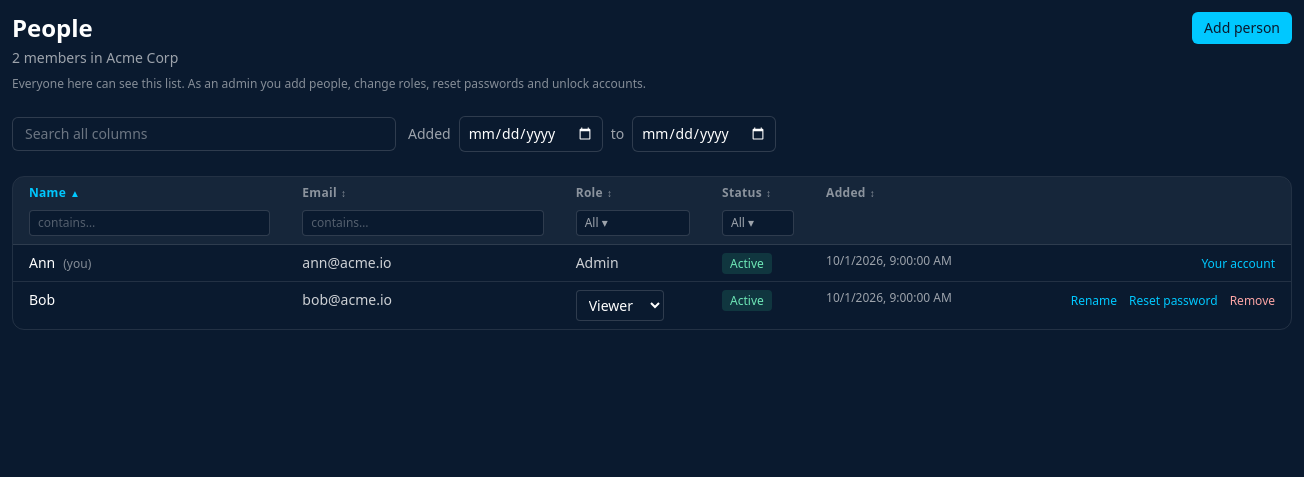
Test: People page › resets a password and shows the temporary one
The width and height of the screenshot is (1304, 477).
Click the button "Reset password" at (1173, 301), box [1129,293,1218,309]
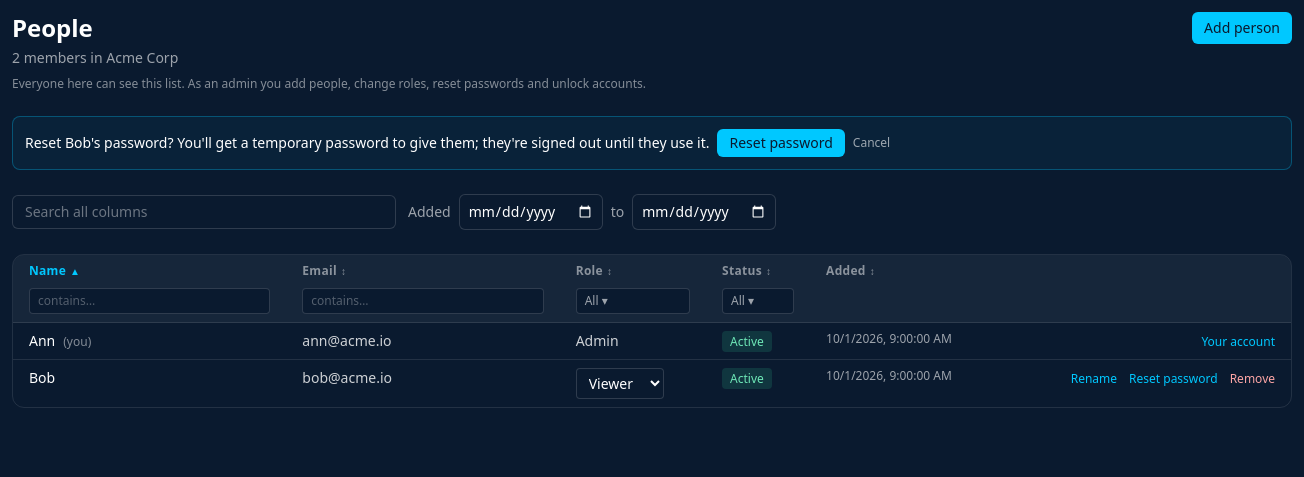
Click the 1st button "Reset password" at (781, 143), box [718,129,845,157]
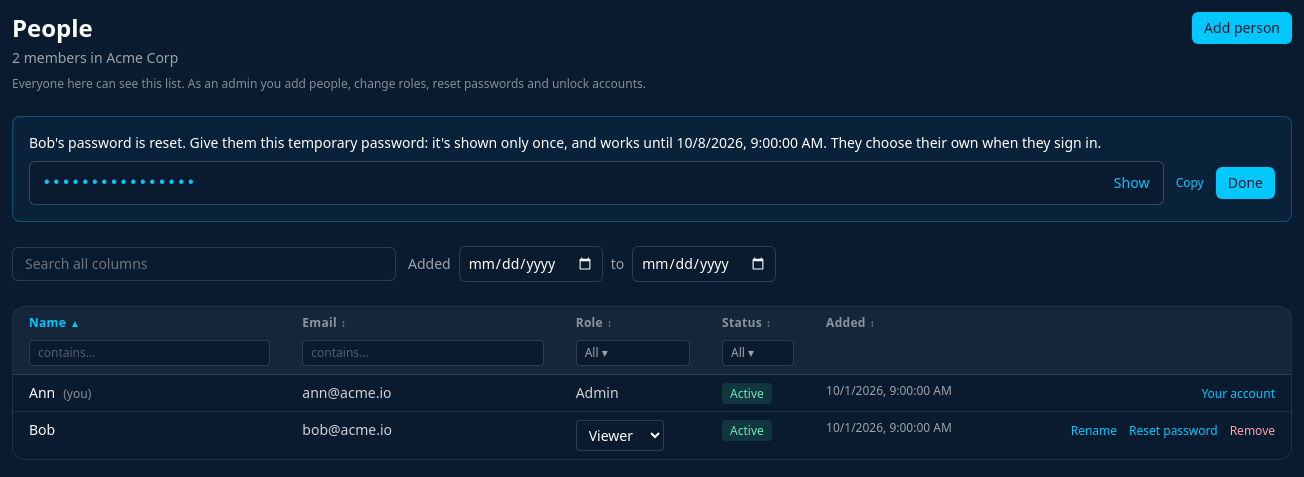
Expected: the element "temporary password" shows "Bob's password is reset.", [29,133,186,152]
Expected: the password field named "Temporary password value" holds "New-Temp-7654321", [29,161,1164,205]
